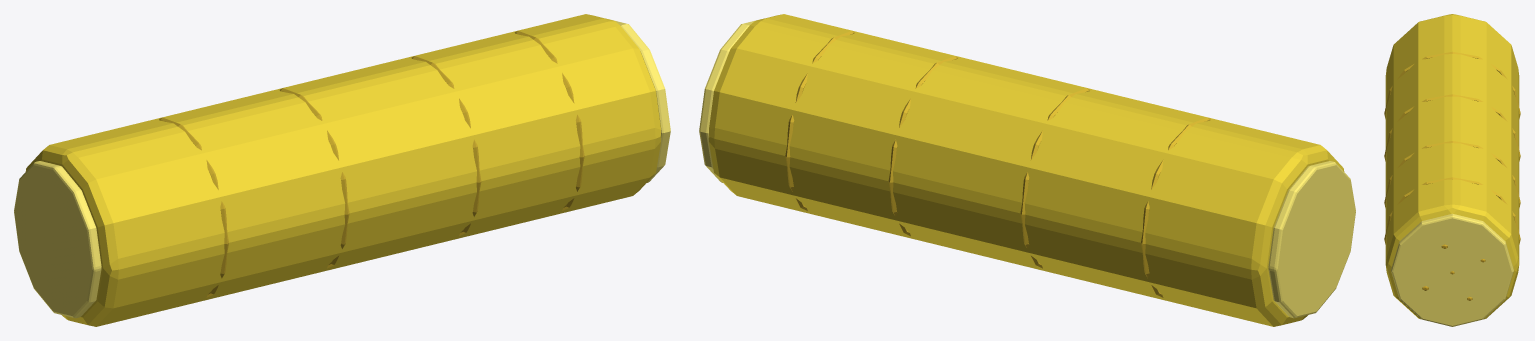
The model's file is danmuji.glb.
The picture shows the model from 3 angles, left to right: view 1: azimuth 30°, elevation 25°; view 2: azimuth 150°, elevation 25°; view 3: azimuth 270°, elevation 25°; orthographic projection. The views are drawn at different scales.
Visible parts, largest first — view 1: danmuji_body, far_cut, near_cut, pickle_ring_3, pickle_ring_2, pickle_ring_0, pickle_ring_1; view 2: danmuji_body, far_cut, near_cut, pickle_ring_3, pickle_ring_2, pickle_ring_0, pickle_ring_1; view 3: danmuji_body, near_cut, pickle_ring_3, pickle_ring_0, pickle_ring_1, pickle_ring_2.
Boxes of the visible parts, <box> form: danmuji_body: <box>25,14,660,326</box>; far_cut: <box>14,161,101,318</box>; near_cut: <box>614,20,670,182</box>; pickle_ring_3: <box>514,31,584,210</box>; pickle_ring_2: <box>411,56,481,236</box>; pickle_ring_0: <box>159,117,228,297</box>; pickle_ring_1: <box>279,88,349,268</box>; danmuji_body: <box>709,14,1344,326</box>; far_cut: <box>1268,161,1355,318</box>; near_cut: <box>699,20,755,182</box>; pickle_ring_3: <box>785,31,855,210</box>; pickle_ring_2: <box>888,56,958,236</box>; pickle_ring_0: <box>1141,117,1210,297</box>; pickle_ring_1: <box>1020,88,1090,268</box>; danmuji_body: <box>1385,14,1519,319</box>; near_cut: <box>1391,213,1513,326</box>; pickle_ring_3: <box>1384,177,1520,244</box>; pickle_ring_0: <box>1384,51,1520,118</box>; pickle_ring_1: <box>1384,94,1520,161</box>; pickle_ring_2: <box>1384,141,1520,207</box>.
Size of the model in its own units: 0.5053 by 0.1424 by 0.1424.
